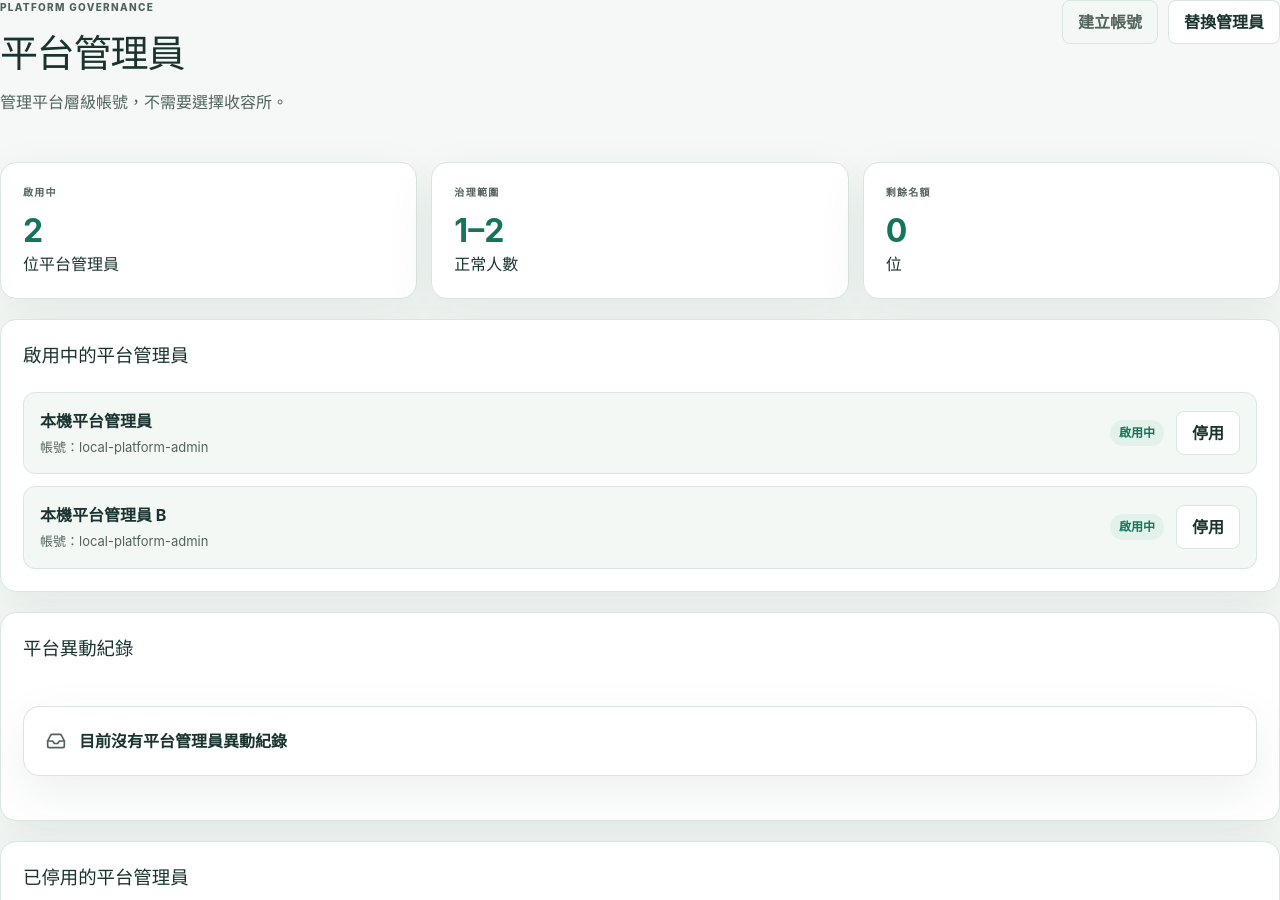
Test: platform administrator management page › requires confirmation before a platform administrator mutation
The image size is (1280, 900).
Click the 1st button "停用" at point(1208, 433), box [1176,411,1240,455]
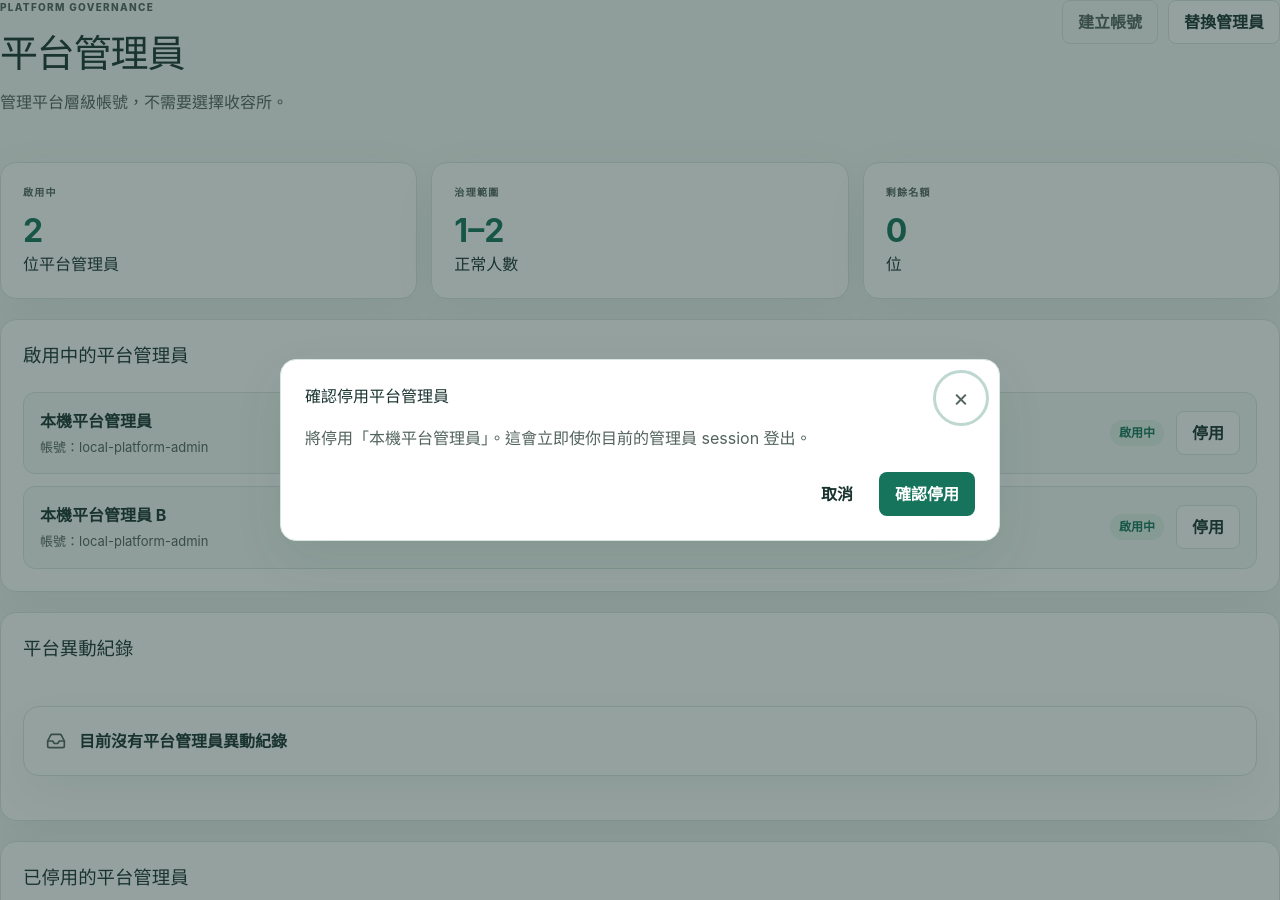
Expected: the text "本機平台管理員" is shown, [40,411,152,431]
Result: the text "確認停用平台管理員" is shown at [305,384,449,408]
